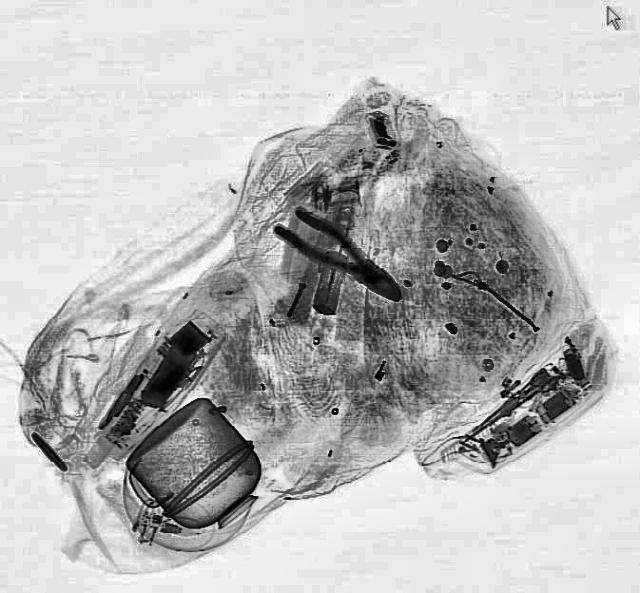Pliers: (267, 201, 415, 313)
